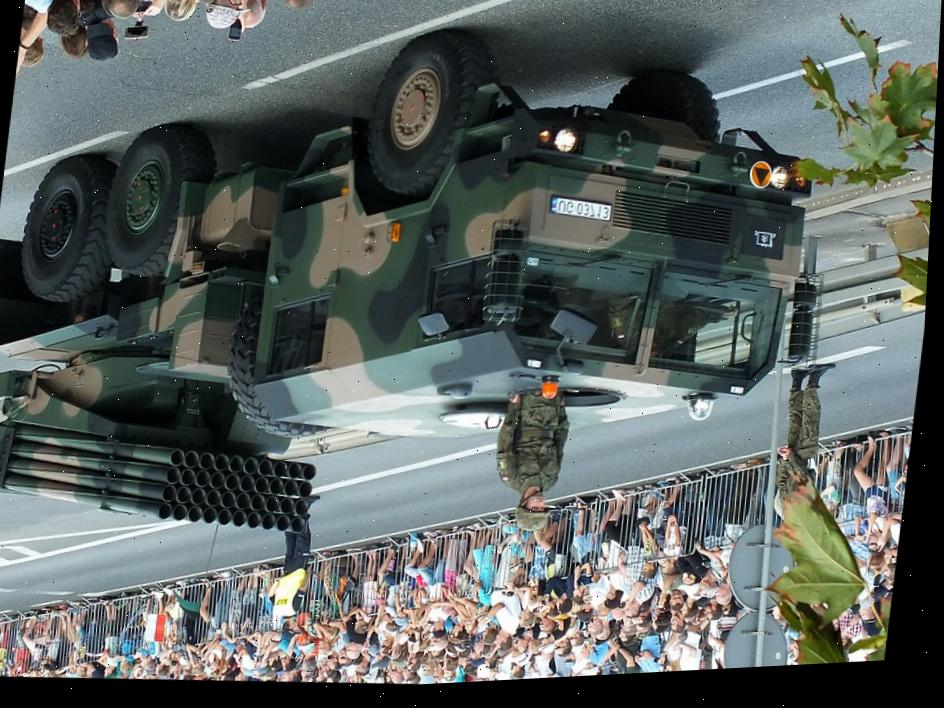tank: (0, 0, 845, 520)
